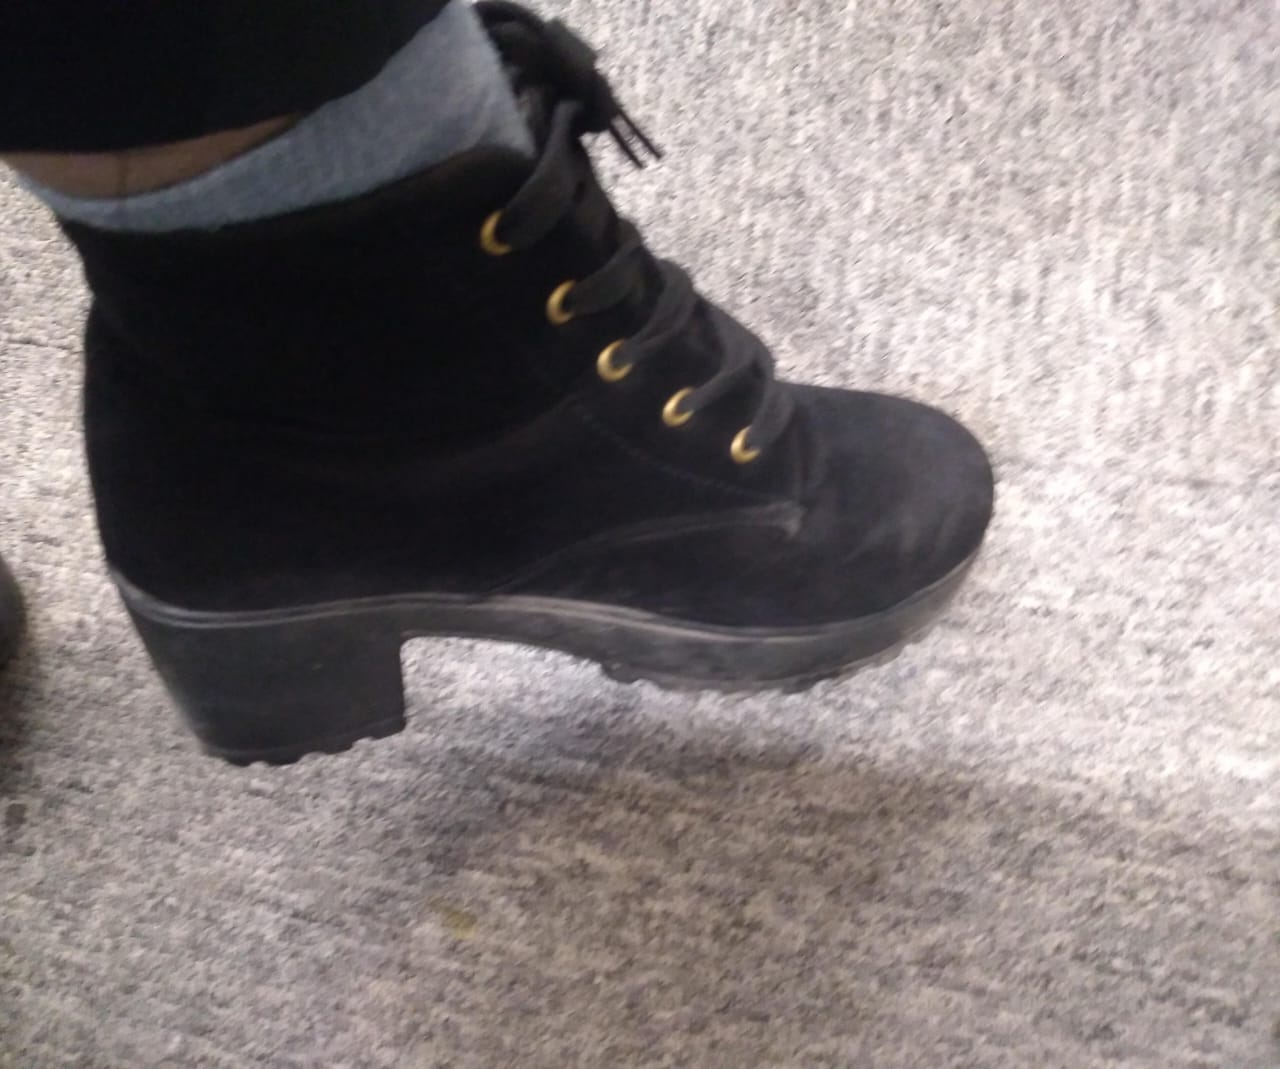Footwear: (50, 107, 1006, 776)
